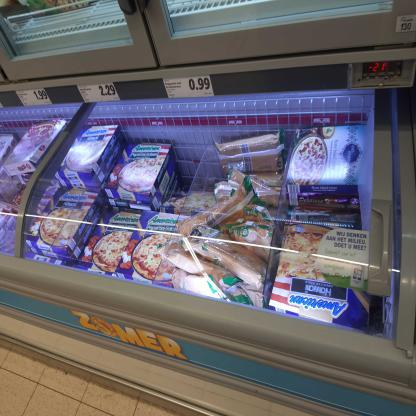prtg: (164, 75, 215, 99), (78, 83, 121, 104), (16, 89, 53, 107)
